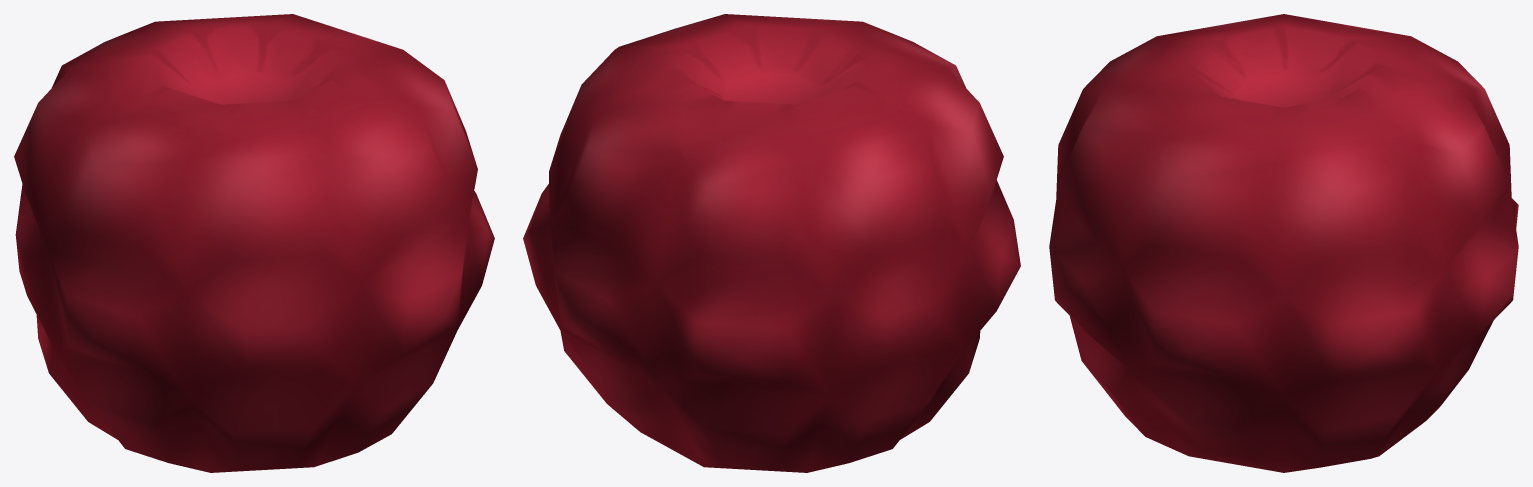
File: raspberry.fbx
3 renders of one model, left to right at view 1: azimuth 30°, elevation 25°; view 2: azimuth 150°, elevation 25°; view 3: azimuth 270°, elevation 25°, orthographic.
Parts seen in each view (by area): view 1: Sphere001; view 2: Sphere001; view 3: Sphere001.
Part boxes in pixels (x1,y1,x2,y2): Sphere001: [14, 14, 494, 472]; Sphere001: [523, 14, 1020, 472]; Sphere001: [1049, 14, 1518, 472].
Bounding box in the file's own units: 15.94 × 14.67 × 15.94.
Materials: 1 (1 with a texture image).
